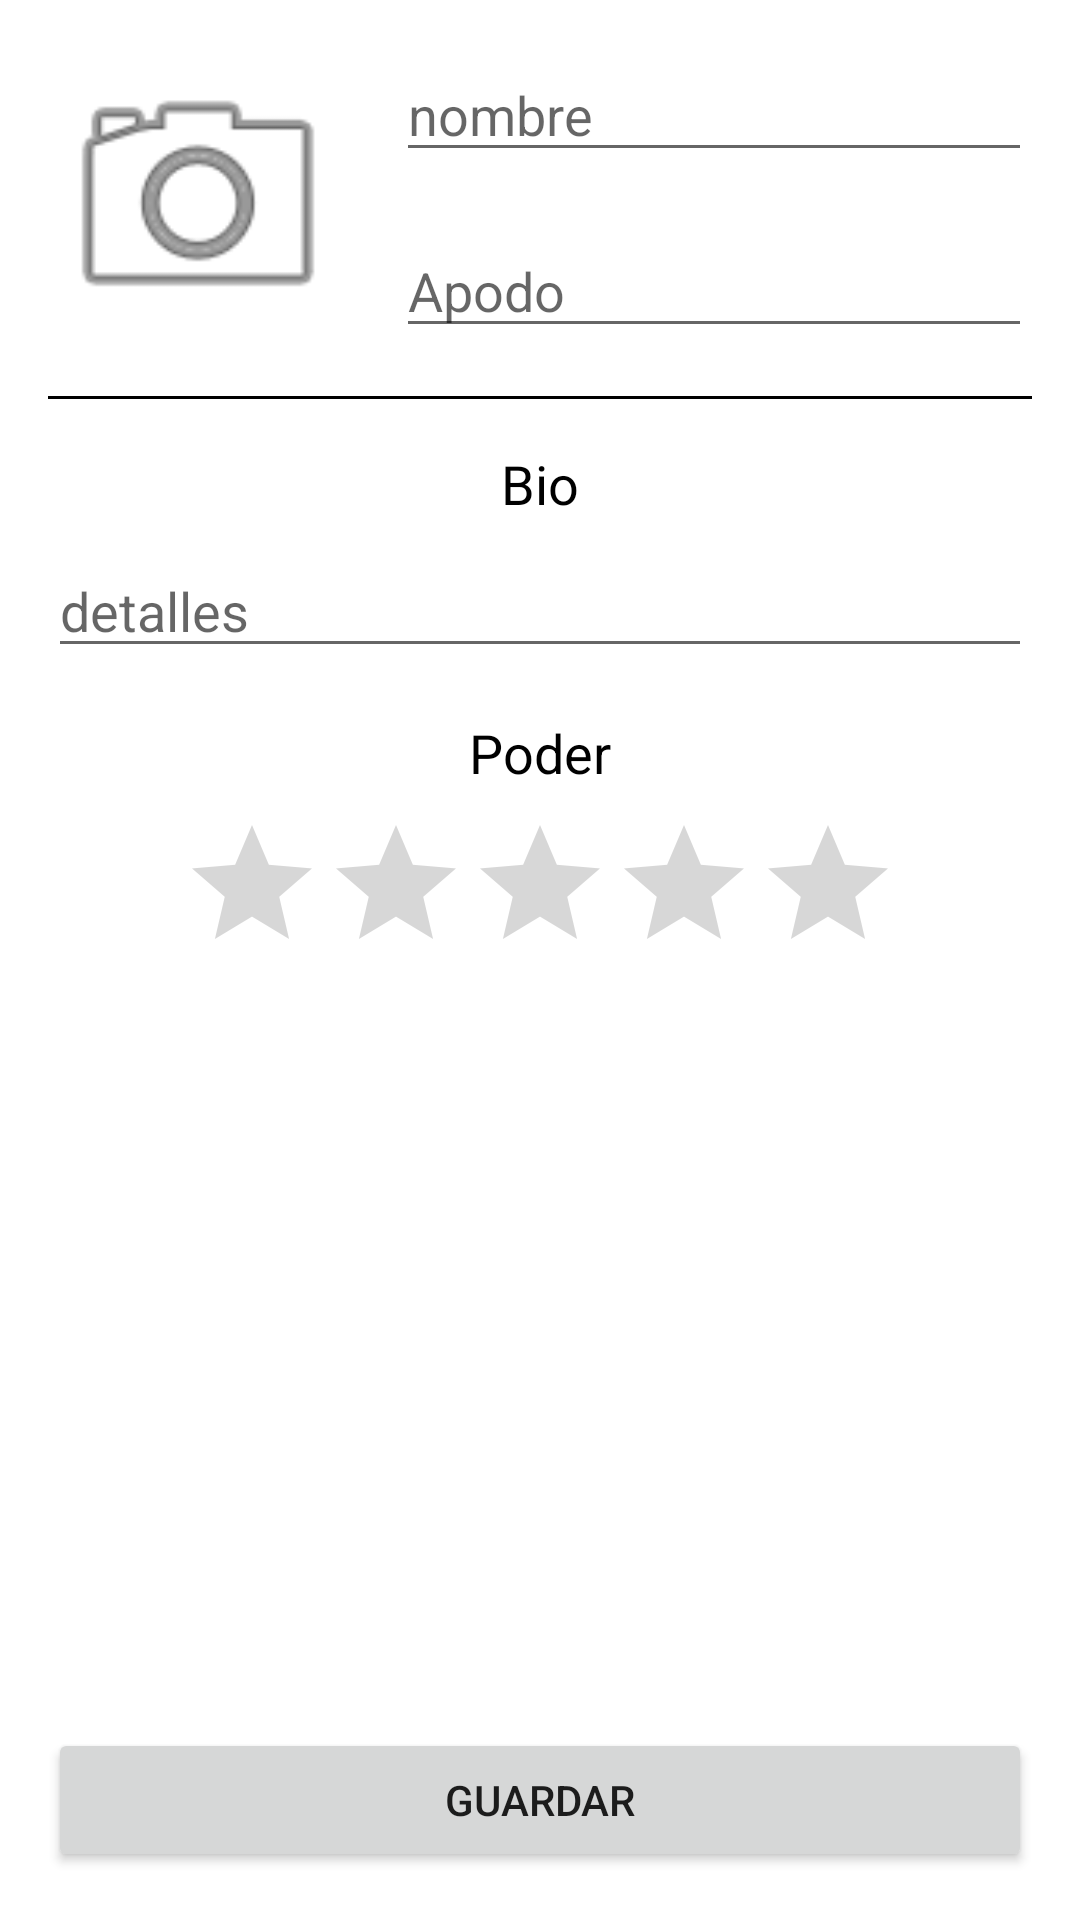

Icon click points for this 1080 × 1920 phone screenshot, format (x=x, y=y):
camera: (x=198, y=193)
